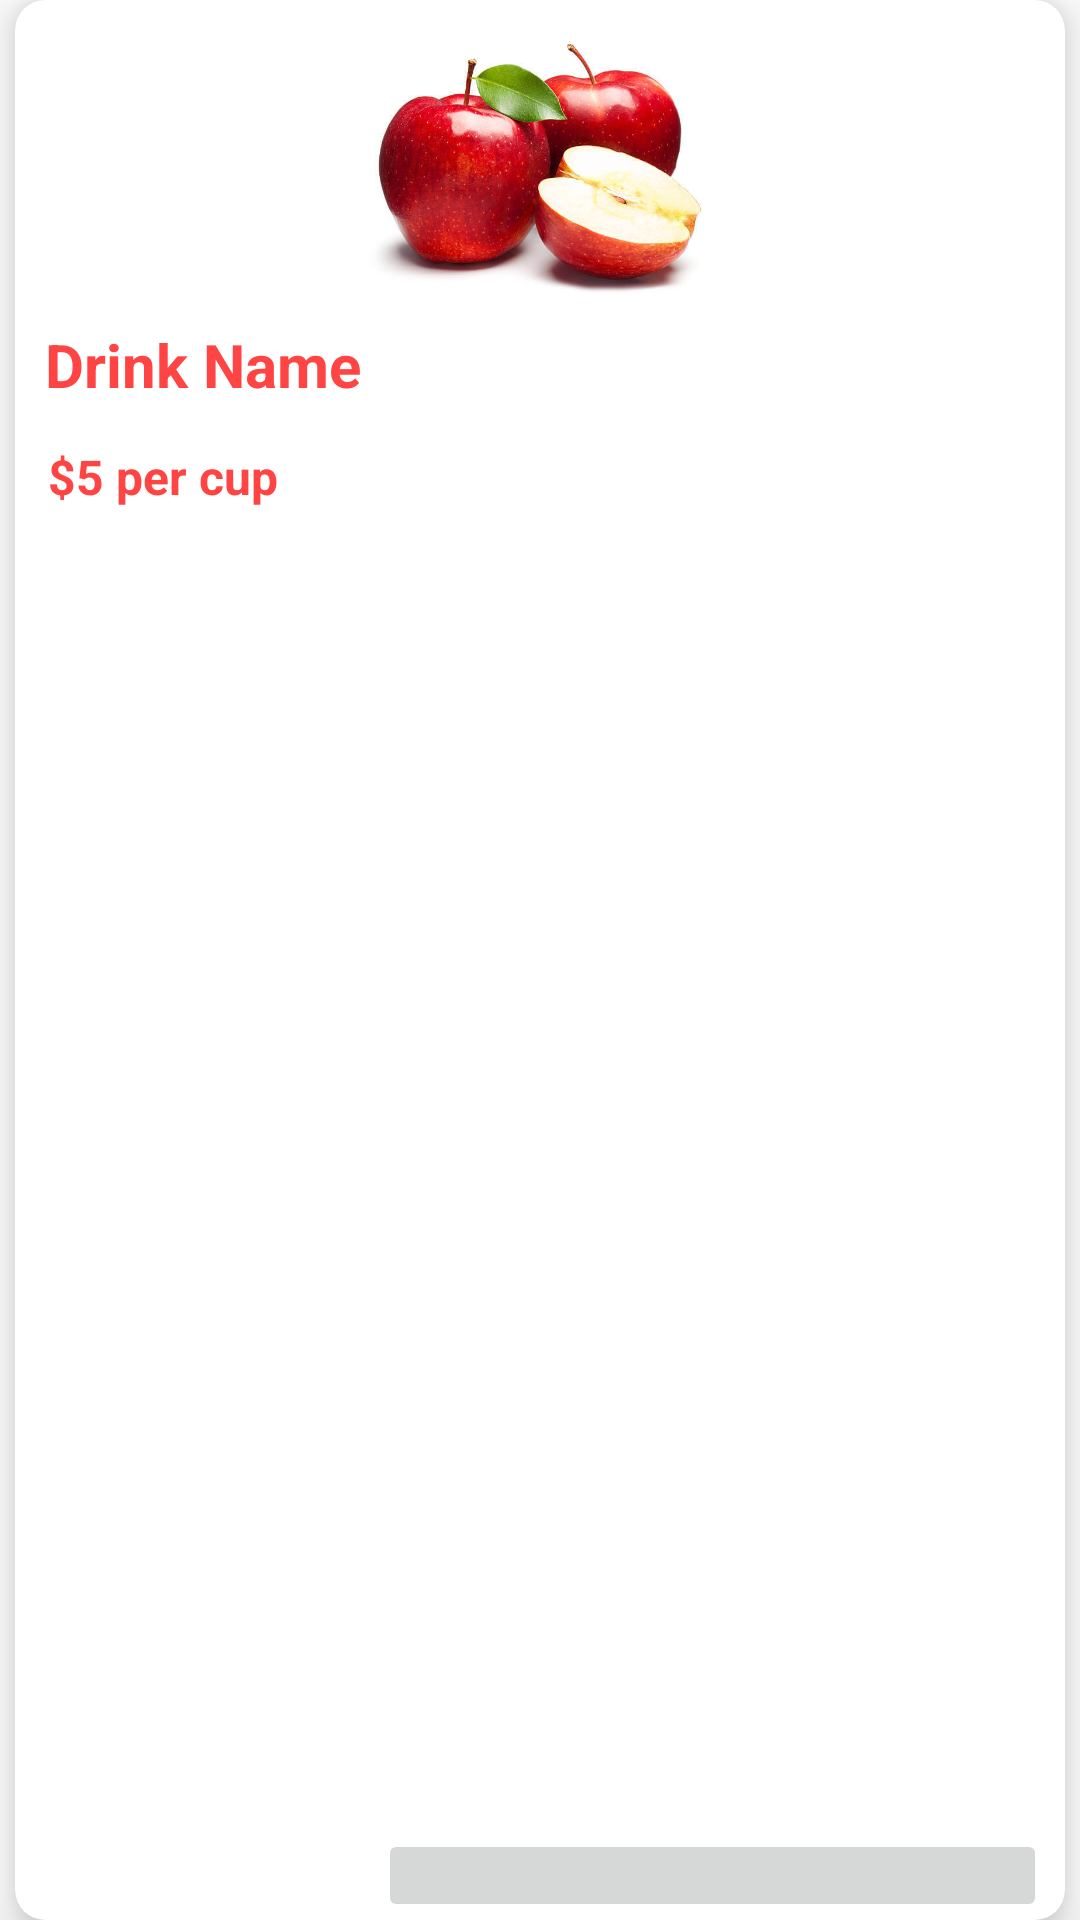

Locate icon controls on the screen. Image size 1080x1920, boxes as (x1, y1, x2, y2).
apple: (378, 44, 701, 291)
